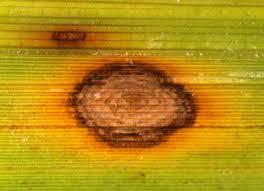0 BrownSpot: (23, 34, 238, 166), (31, 14, 105, 55)
